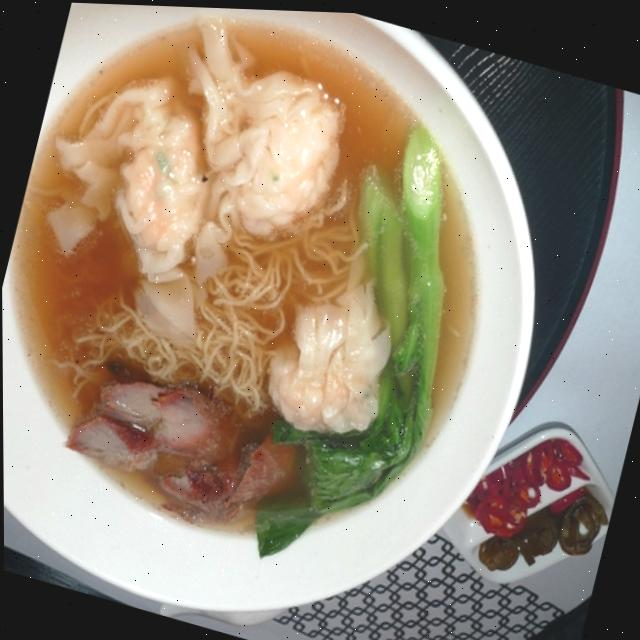汤锅炖物: (0, 0, 544, 612)
